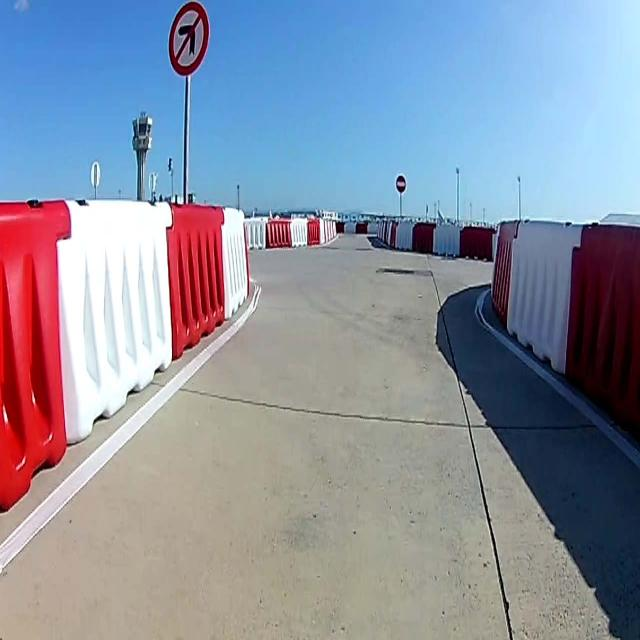girisyok: (396, 175, 406, 192)
soladonulmez: (168, 2, 210, 74)
